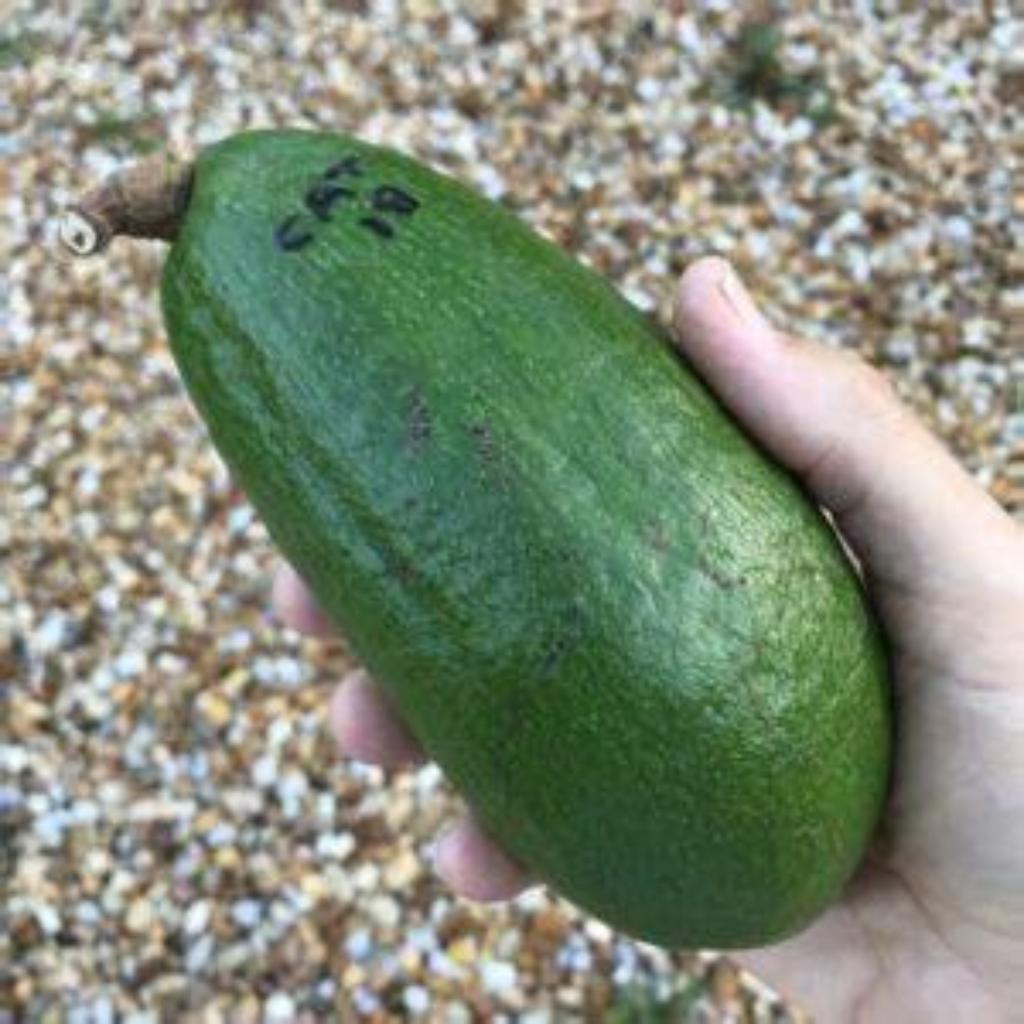fruto_sano: (157, 171, 887, 959)
